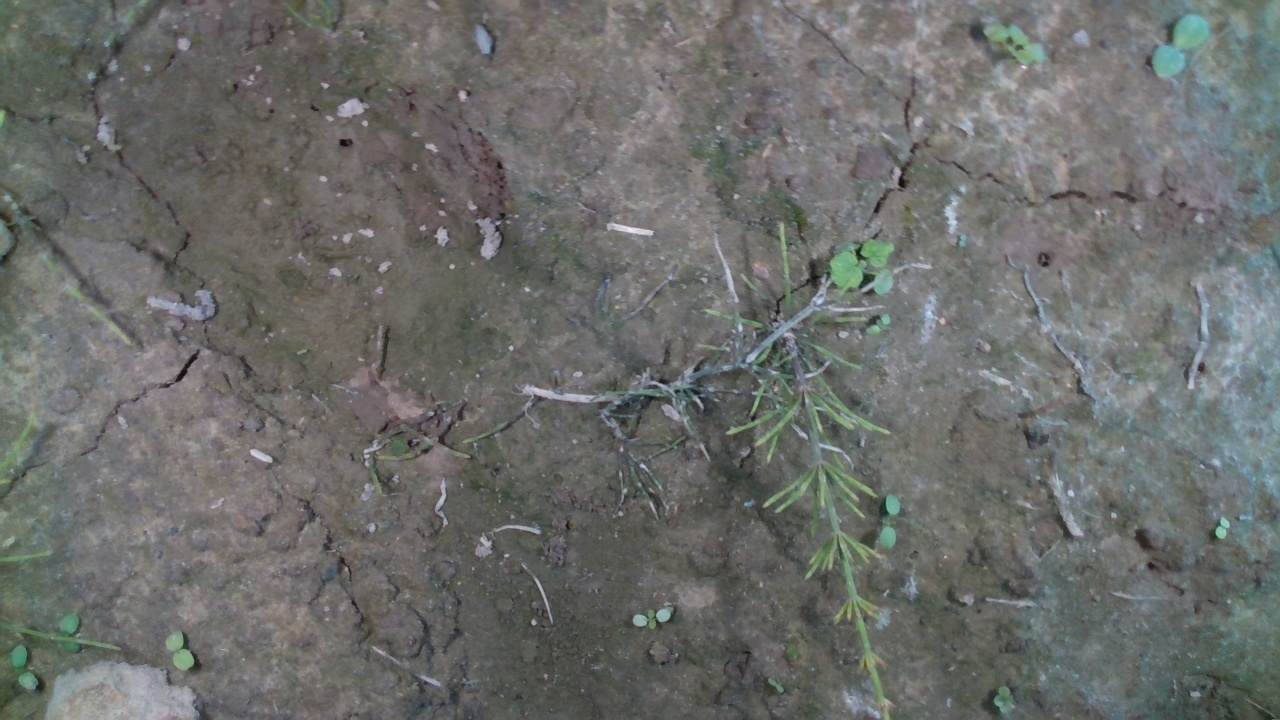weed: (1147, 13, 1209, 79), (10, 643, 40, 690), (878, 493, 902, 548), (165, 630, 196, 671), (630, 606, 671, 630), (991, 683, 1016, 715), (864, 313, 891, 335), (1213, 515, 1231, 542)
